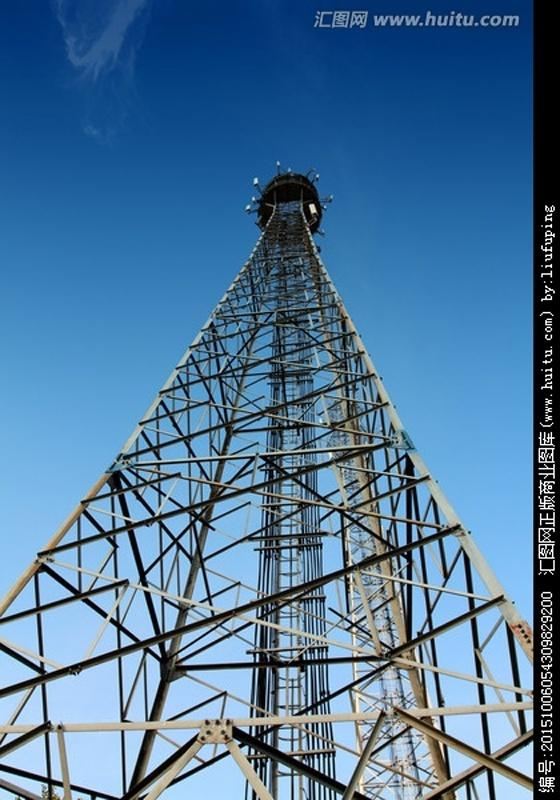power_tower: (93, 168, 471, 755)
